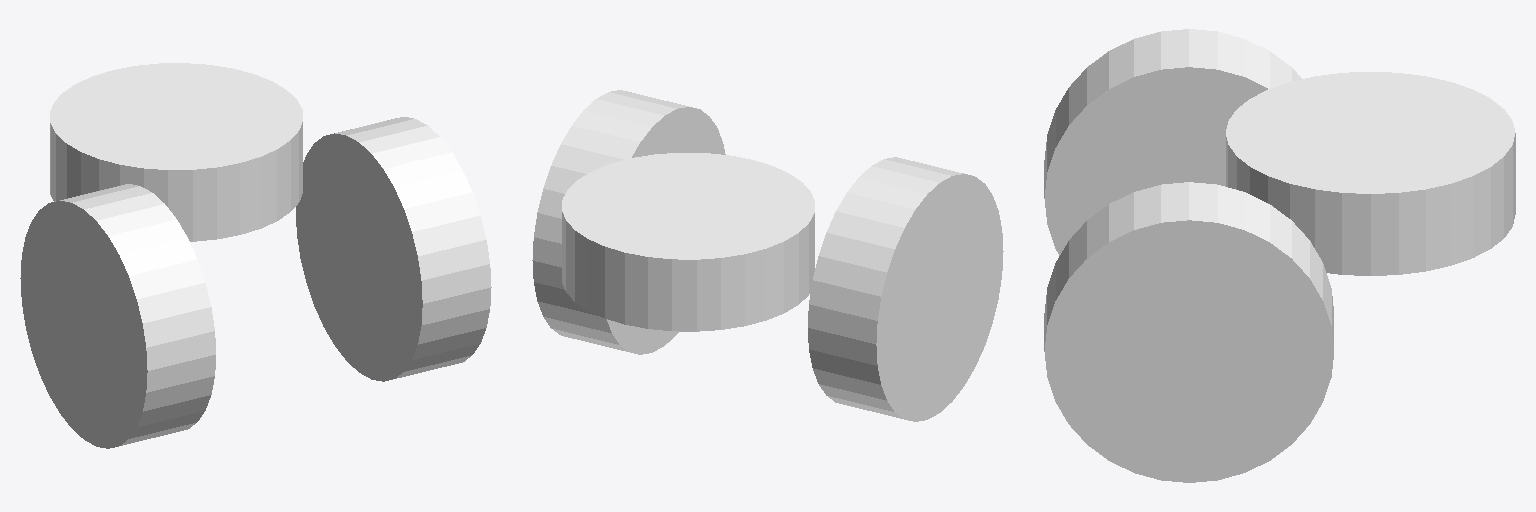
The robot description file, URDF, robot "car":
<!-- 
    需求: 长方体

 -->


<robot name="car">     
    <link name="base_link">
           <visual>
                 <geometry>
                       <cylinder length="0.05" radius="0.08"/>
                 </geometry>
            <origin rpy="0 0 0" xyz="0 0 0.05"/>
            <material name="white">
                <color rgba="1 1 1 1"/>
            </material>
           </visual>     
     </link>

     <link name="wheel_1">
           <visual>
                 <geometry>
                       <mesh filename="[local-path]/URDF2IFC/Project/urdf_models/435.stl" scale="0.01 0.01 0.01"/>
                 </geometry>
            <origin rpy="0 1.57 0" xyz="0 0 0"/>
               <material name="black">
                <color rgba="0 0 0 1"/>
            </material>
        </visual>
     </link>

     <link name="wheel_2">
           <visual>
                 <geometry>
                       <mesh filename="[local-path]/URDF2IFC/Project/urdf_models/435.stl" scale="0.01 0.01 0.01"/>
                 </geometry>
            <origin rpy="0 -1.57 0" xyz="0 0 0"/>
               <material name="black"/>
           </visual>
     </link>

     <link name="wheel_3">
           <visual>
                 <geometry>
                       <cylinder length="0.05" radius="0.08"/>
                 </geometry>
            <origin rpy="0 1.57 0" xyz="0.1 -0.1 0"/>
               <material name="white"/>
           </visual>
     </link>

     <link name="wheel_4">
           <visual>
                 <geometry>
                       <cylinder length="0.05" radius="0.08"/>
                 </geometry>
            <origin rpy="0 1.57 0" xyz="-0.1 -0.1 0"/>
               <material name="white"/>
           </visual>
     </link>

     <joint name="base_to_wheel1" type="fixed">
           <parent link="base_link"/>
           <child link="wheel_1"/>
           <origin xyz="0 0 0"/>
     </joint>

     <joint name="base_to_wheel2" type="fixed">
           <parent link="base_link"/>
           <child link="wheel_2"/>
           <origin xyz="0 0 0"/>
     </joint>

     <joint name="base_to_wheel3" type="fixed">
           <parent link="base_link"/>
           <child link="wheel_3"/>
           <origin xyz="0 0 0"/>
     </joint>

     <joint name="base_to_wheel4" type="fixed">
           <parent link="base_link"/>
           <child link="wheel_4"/>
           <origin xyz="0 0 0"/>
     </joint>
</robot>

--- What the picture shows (computed from the rendered views, not written in the file) ---
Views: 3 orthographic renders of the robot side by side, from view 1: azimuth 30°, elevation 25°; view 2: azimuth 150°, elevation 25°; view 3: azimuth 270°, elevation 25°.
Robot: car — 5 links, 4 joints (4 fixed); root link base_link; default pose: all joints at 0.
Visible links, largest first — view 1: wheel_4, wheel_3, base_link; view 2: wheel_4, base_link, wheel_3; view 3: wheel_3, base_link, wheel_4.
Boxes of the visible links, bbox=[...] form: wheel_4: bbox=[20, 184, 215, 448]; wheel_3: bbox=[296, 117, 491, 381]; base_link: bbox=[50, 63, 302, 241]; wheel_4: bbox=[808, 157, 1003, 421]; base_link: bbox=[562, 153, 814, 331]; wheel_3: bbox=[532, 90, 725, 354]; wheel_3: bbox=[1044, 182, 1333, 482]; base_link: bbox=[1226, 72, 1515, 275]; wheel_4: bbox=[1044, 29, 1301, 255].
Size in the robot's own frame: 0.2501 by 0.26 by 0.16 metres.
Geometry: only primitive shapes (box / cylinder / sphere) drawn; not drawn: 2 mesh visuals (reference in a form the renderer does not follow).
